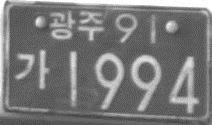1: (67, 48, 81, 110), (147, 12, 160, 48)
4: (167, 53, 200, 113)
9: (91, 51, 126, 111), (128, 52, 163, 112), (114, 12, 138, 44)
가: (12, 48, 52, 90)
광주_O: (48, 8, 103, 42)
